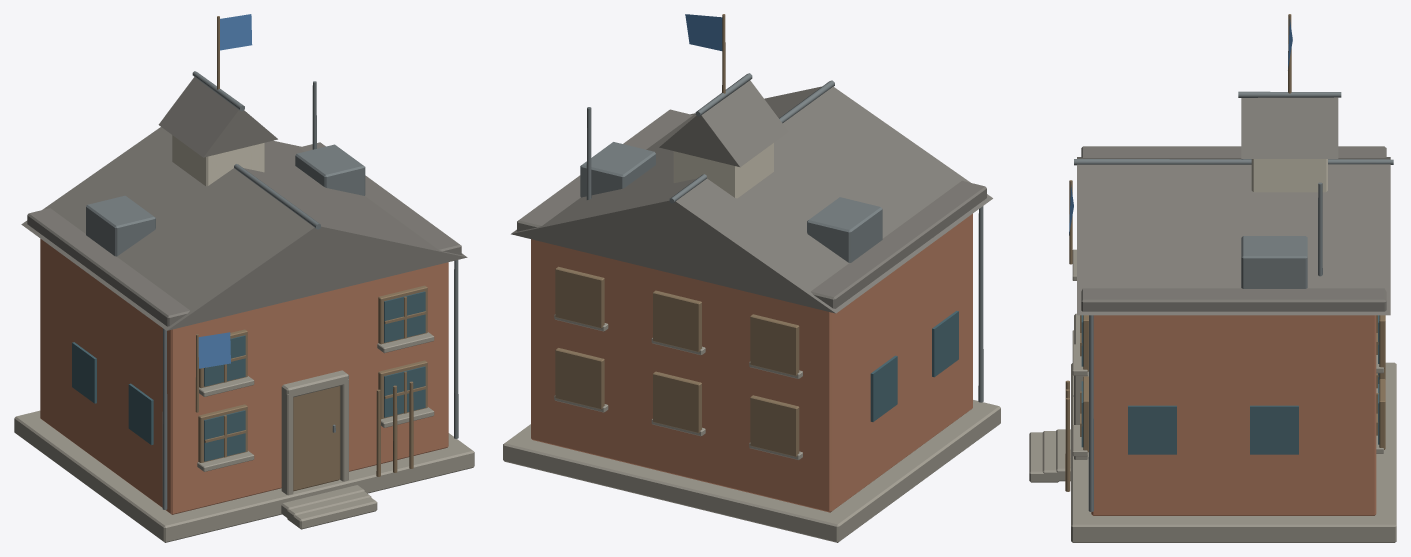
Rendered from bld_centre_a06.glb.
The picture shows the model from 3 angles, left to right: view 1: azimuth 30°, elevation 25°; view 2: azimuth 150°, elevation 25°; view 3: azimuth 270°, elevation 25°; orthographic projection. The views are drawn at different scales.
Visible parts, largest first — view 1: bld_centre_a06; view 2: bld_centre_a06; view 3: bld_centre_a06.
Part boxes in pixels (bbox=[...]): bld_centre_a06: bbox=[14, 14, 474, 542]; bld_centre_a06: bbox=[503, 14, 1000, 542]; bld_centre_a06: bbox=[1029, 14, 1396, 542].
Size of the model in its own units: 3.8 by 4.86 by 3.61.
